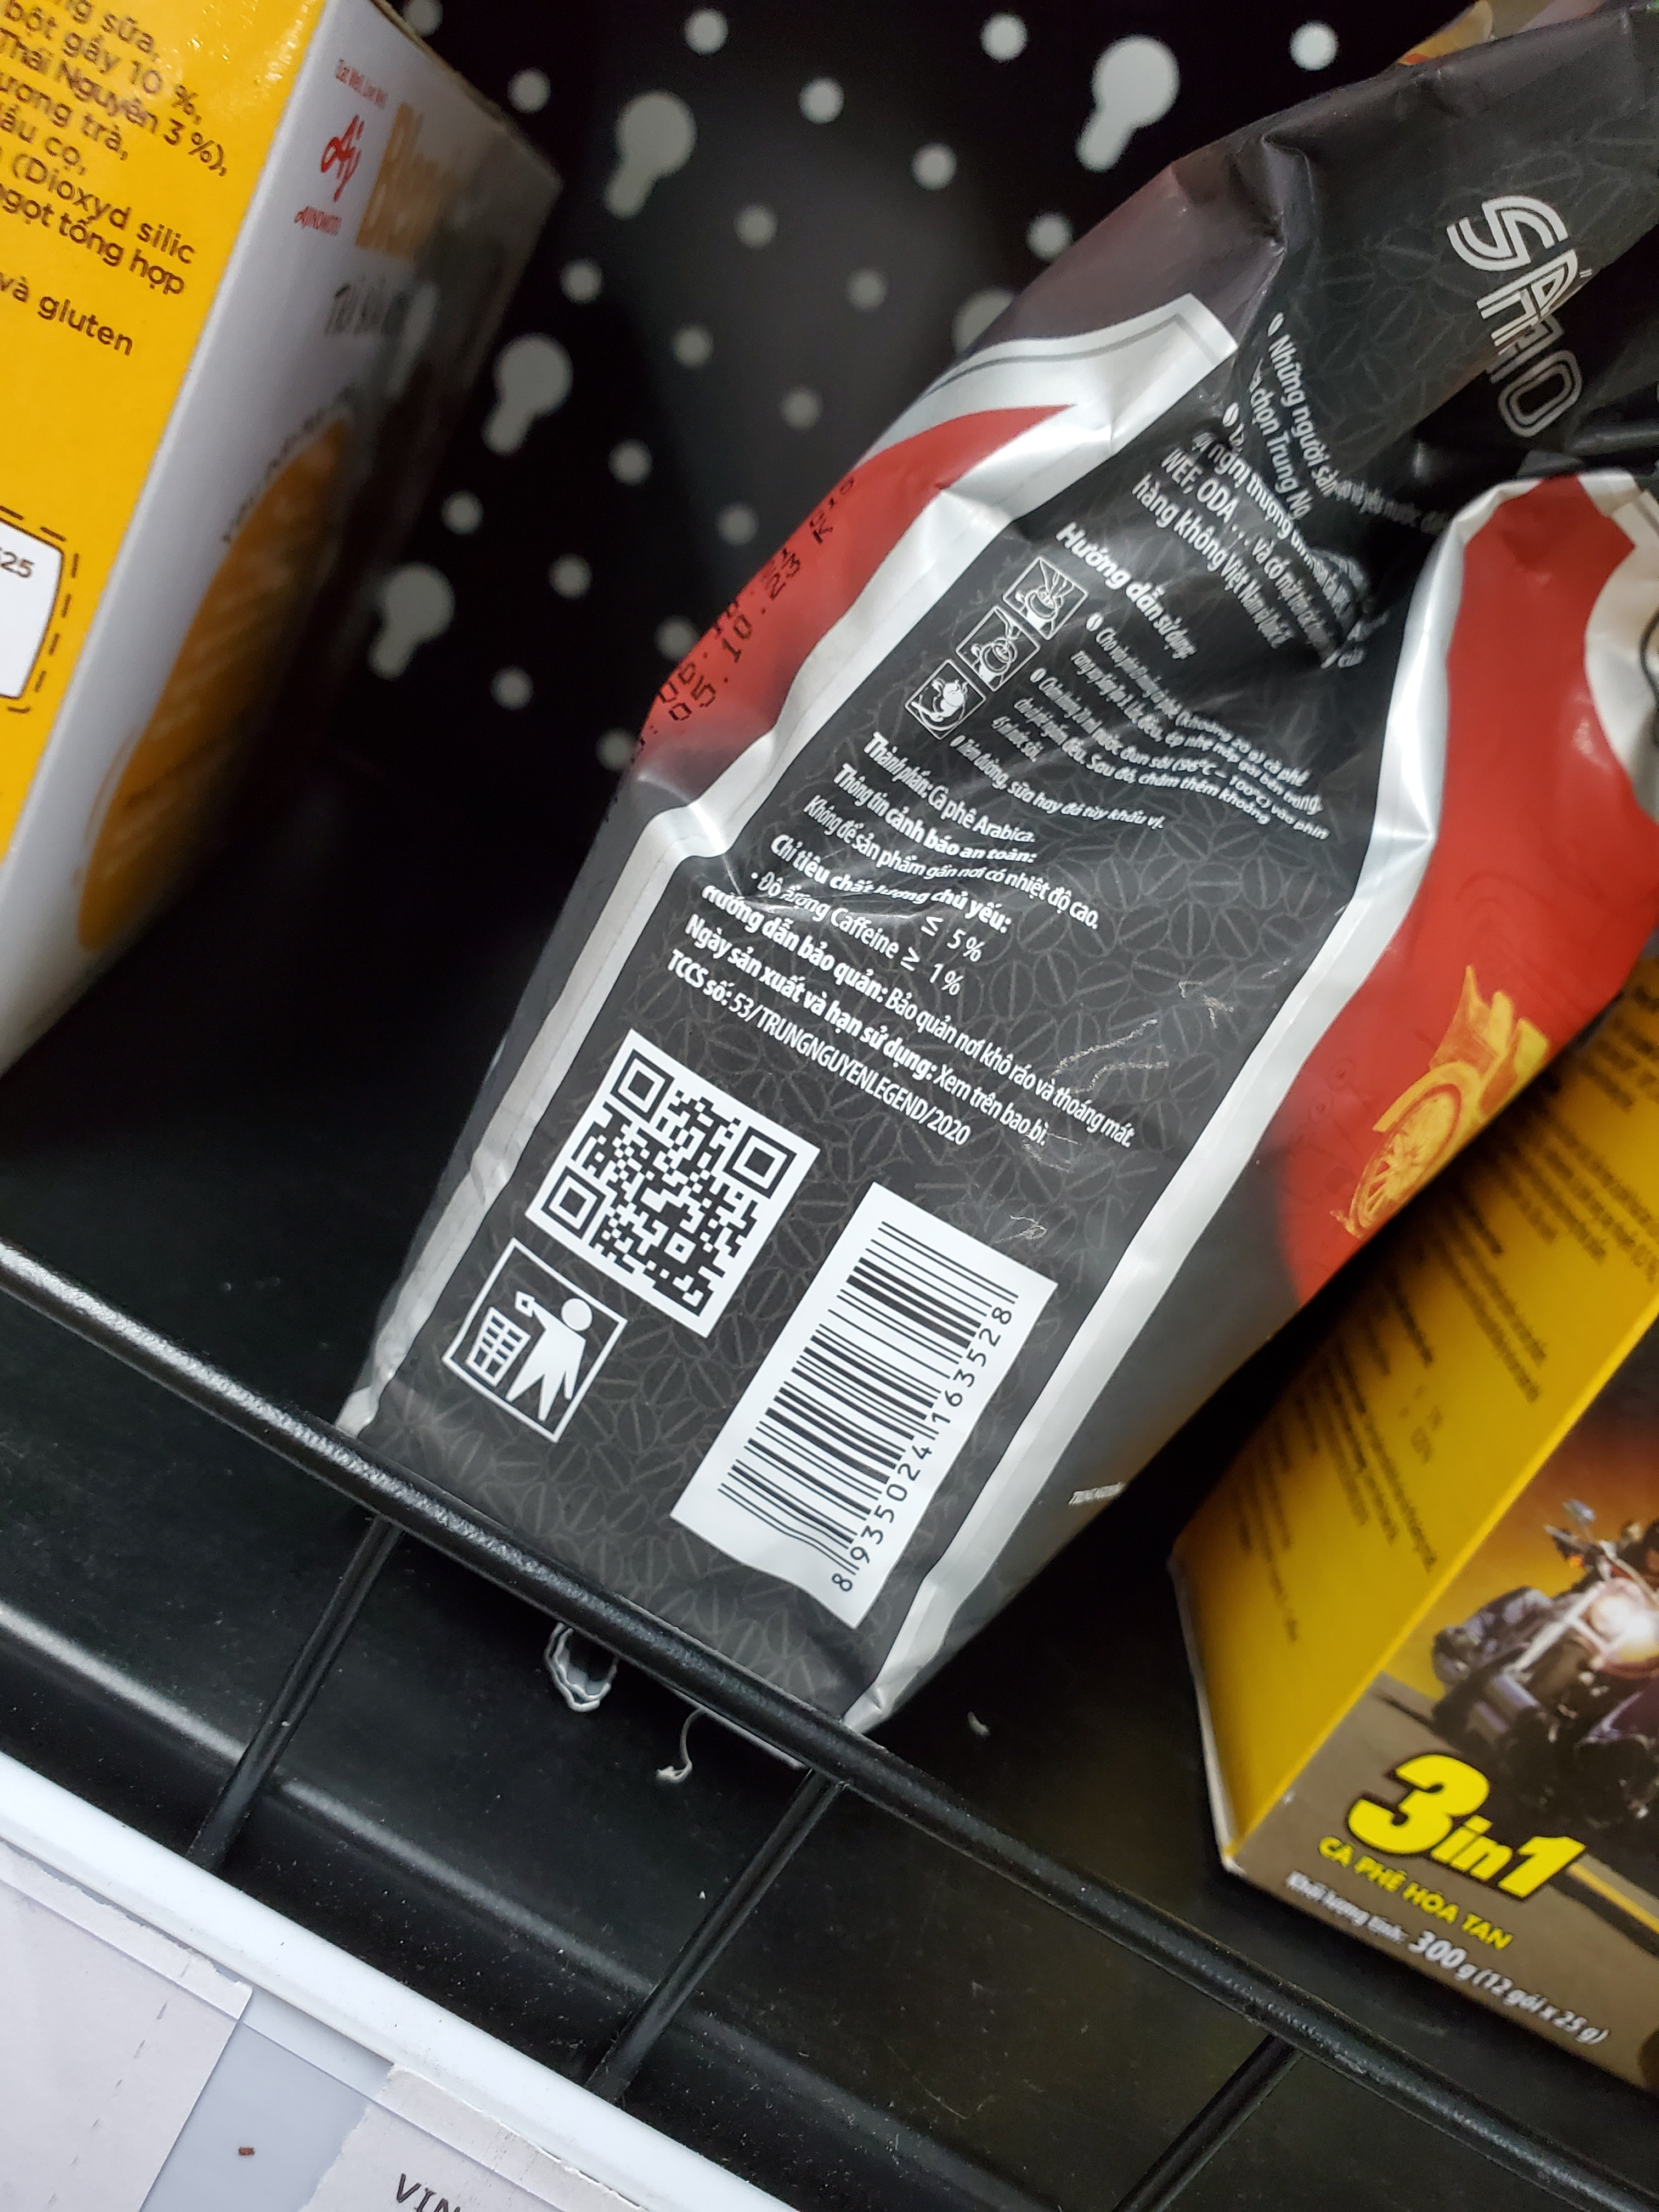barcode: (664, 1186, 1030, 1641)
qr code: (498, 1028, 824, 1350)
